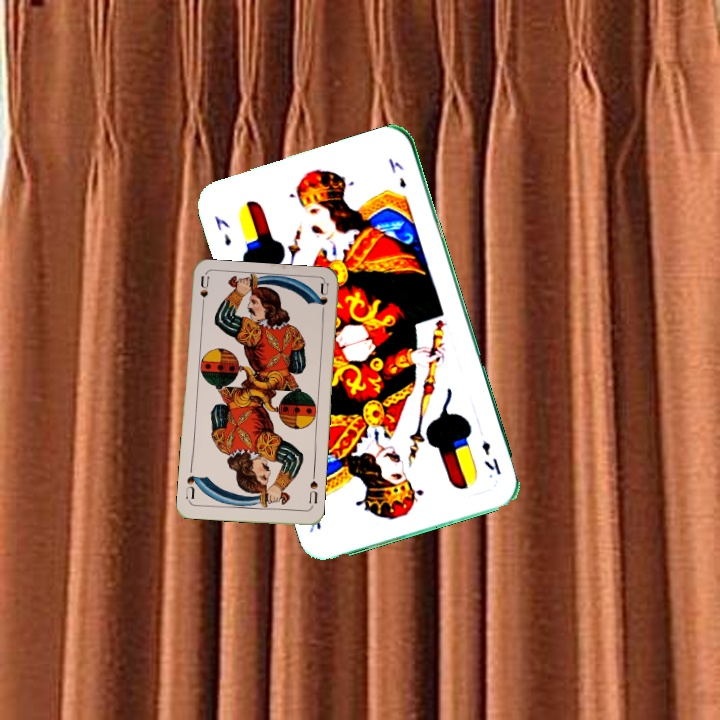EK: (477, 437, 504, 477), (211, 211, 234, 249)
SU: (196, 273, 211, 314), (305, 470, 320, 510)
